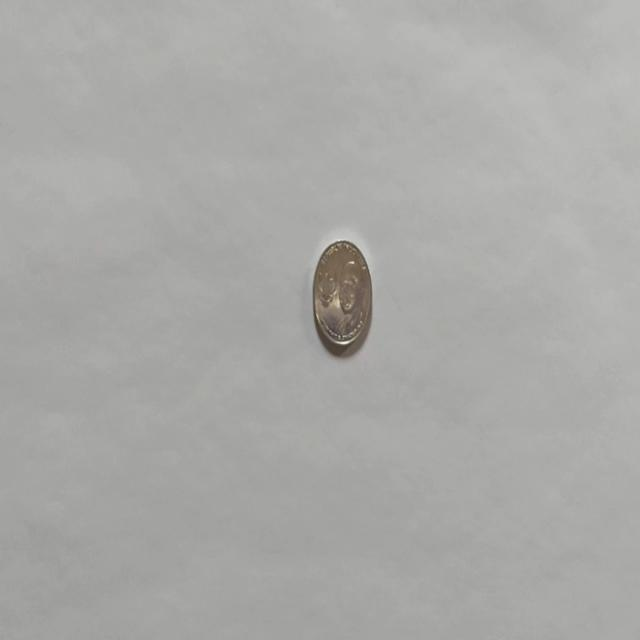lima ratus rupiah: (312, 237, 372, 351)
